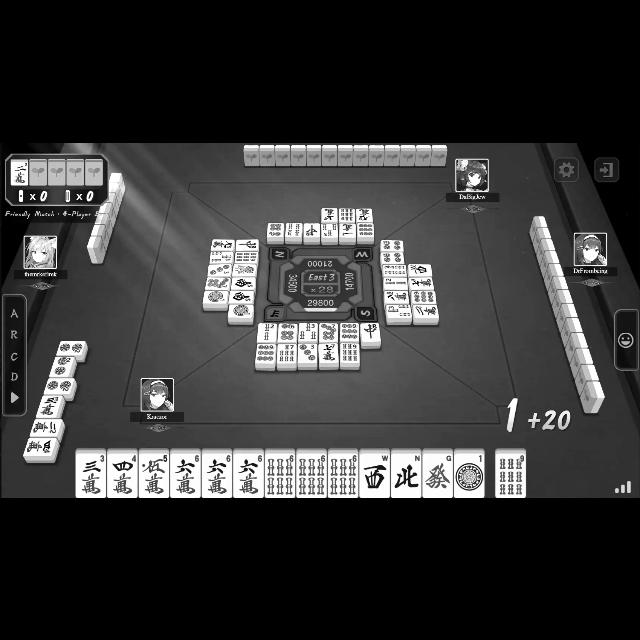1m: (340, 223, 356, 237)
1p: (454, 450, 484, 498), (229, 304, 253, 318), (205, 290, 228, 302)
1s: (234, 264, 256, 274)
2m: (33, 419, 59, 436), (414, 304, 438, 318), (11, 162, 27, 182)
2p: (46, 378, 72, 394), (58, 340, 84, 354), (52, 357, 72, 375)
2s: (384, 277, 408, 289), (259, 324, 275, 341)
3m: (76, 454, 104, 498), (39, 395, 60, 417)
3p: (299, 343, 317, 361), (208, 264, 230, 276)
3s: (386, 304, 410, 318), (301, 324, 317, 340), (322, 223, 338, 237), (211, 252, 233, 262)
4m: (107, 454, 137, 496), (26, 439, 54, 459)
4p: (381, 240, 403, 250), (382, 252, 402, 262)
4s: (383, 264, 405, 276), (287, 222, 301, 236)
5m: (139, 454, 169, 496)
6m: (171, 452, 199, 496), (203, 454, 230, 496), (235, 456, 262, 496)
6p: (278, 322, 296, 340), (268, 222, 282, 236)
6s: (298, 453, 326, 497), (329, 454, 356, 498), (266, 454, 294, 496)
7m: (319, 344, 337, 361), (411, 277, 434, 289), (322, 208, 336, 220)
7p: (320, 322, 338, 340), (206, 277, 230, 289)
7s: (278, 344, 296, 362)
8m: (384, 290, 408, 302)
9m: (212, 239, 234, 249), (358, 208, 372, 222)
9p: (412, 290, 436, 304), (257, 344, 275, 362), (341, 322, 357, 340), (358, 222, 374, 236)
9s: (496, 452, 526, 498), (341, 343, 359, 361), (339, 207, 355, 221), (236, 251, 258, 261)
chun: (362, 324, 380, 340), (236, 239, 258, 249), (306, 223, 320, 237)
hatsu: (422, 454, 452, 496)
nan: (232, 276, 255, 290), (229, 290, 253, 302)
pe: (393, 454, 421, 496)
sha: (362, 454, 388, 496), (410, 264, 430, 276)
